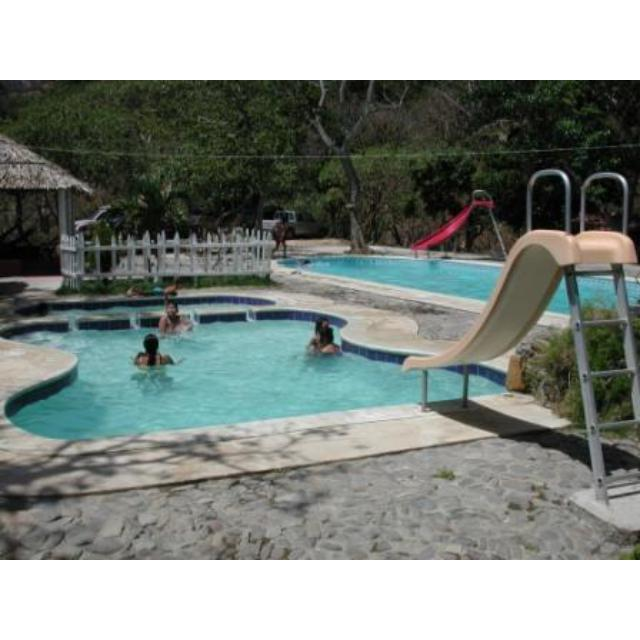human: (141, 334, 181, 369), (307, 318, 335, 356), (157, 303, 184, 333)
